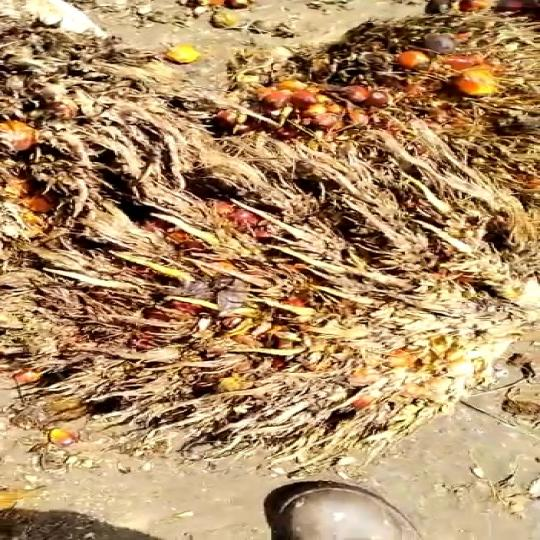terlalu masak: (0, 138, 536, 452)
